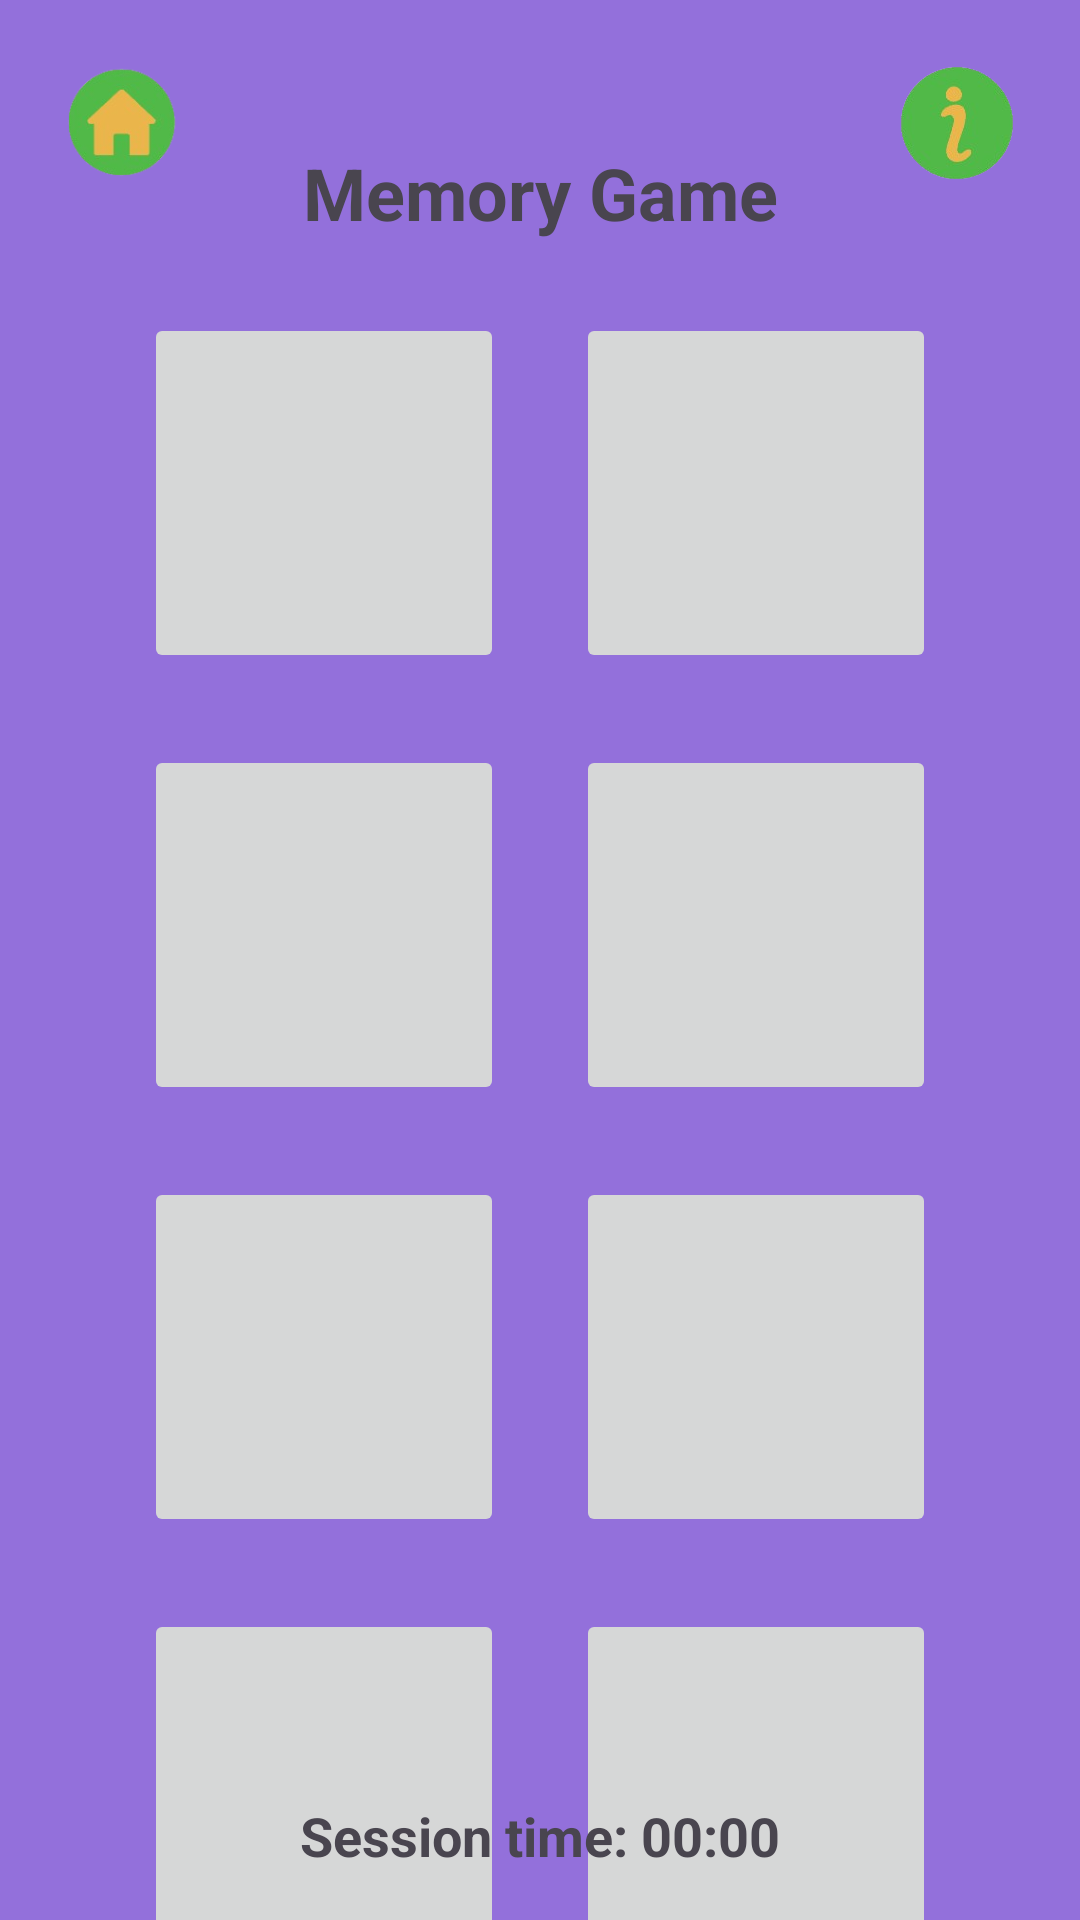

Icons on this 1080px×1920px Android screen, each with its box as [x1,y1,x2,y2]:
Ir para as informações: [901,67,1013,179]
Voltar ao menu: [69,69,175,175]
